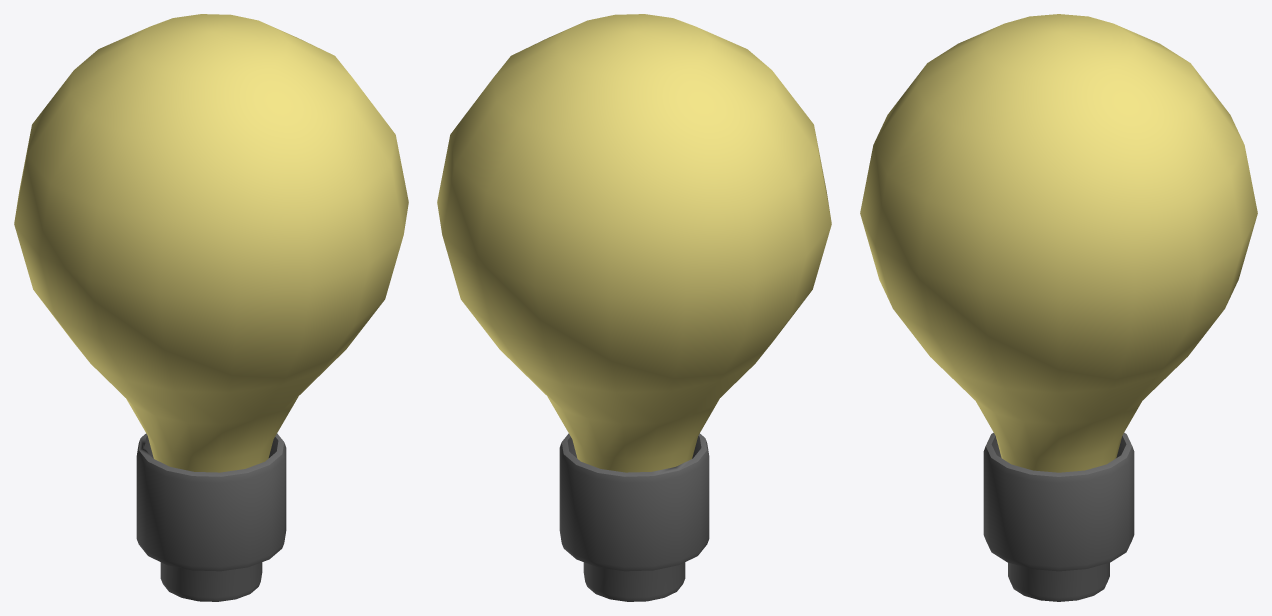
The model's file is SM_lightbulb.fbx.
3 renders of one model, left to right at view 1: azimuth 30°, elevation 25°; view 2: azimuth 150°, elevation 25°; view 3: azimuth 270°, elevation 25°, orthographic.
Visible parts, largest first — view 1: Object069; view 2: Object069; view 3: Object069.
Boxes of the visible parts, <box> form: Object069: <box>14,14,408,601</box>; Object069: <box>437,14,831,601</box>; Object069: <box>860,14,1257,601</box>.
Bounding box in the file's own units: 11.32 × 17.28 × 11.32.
